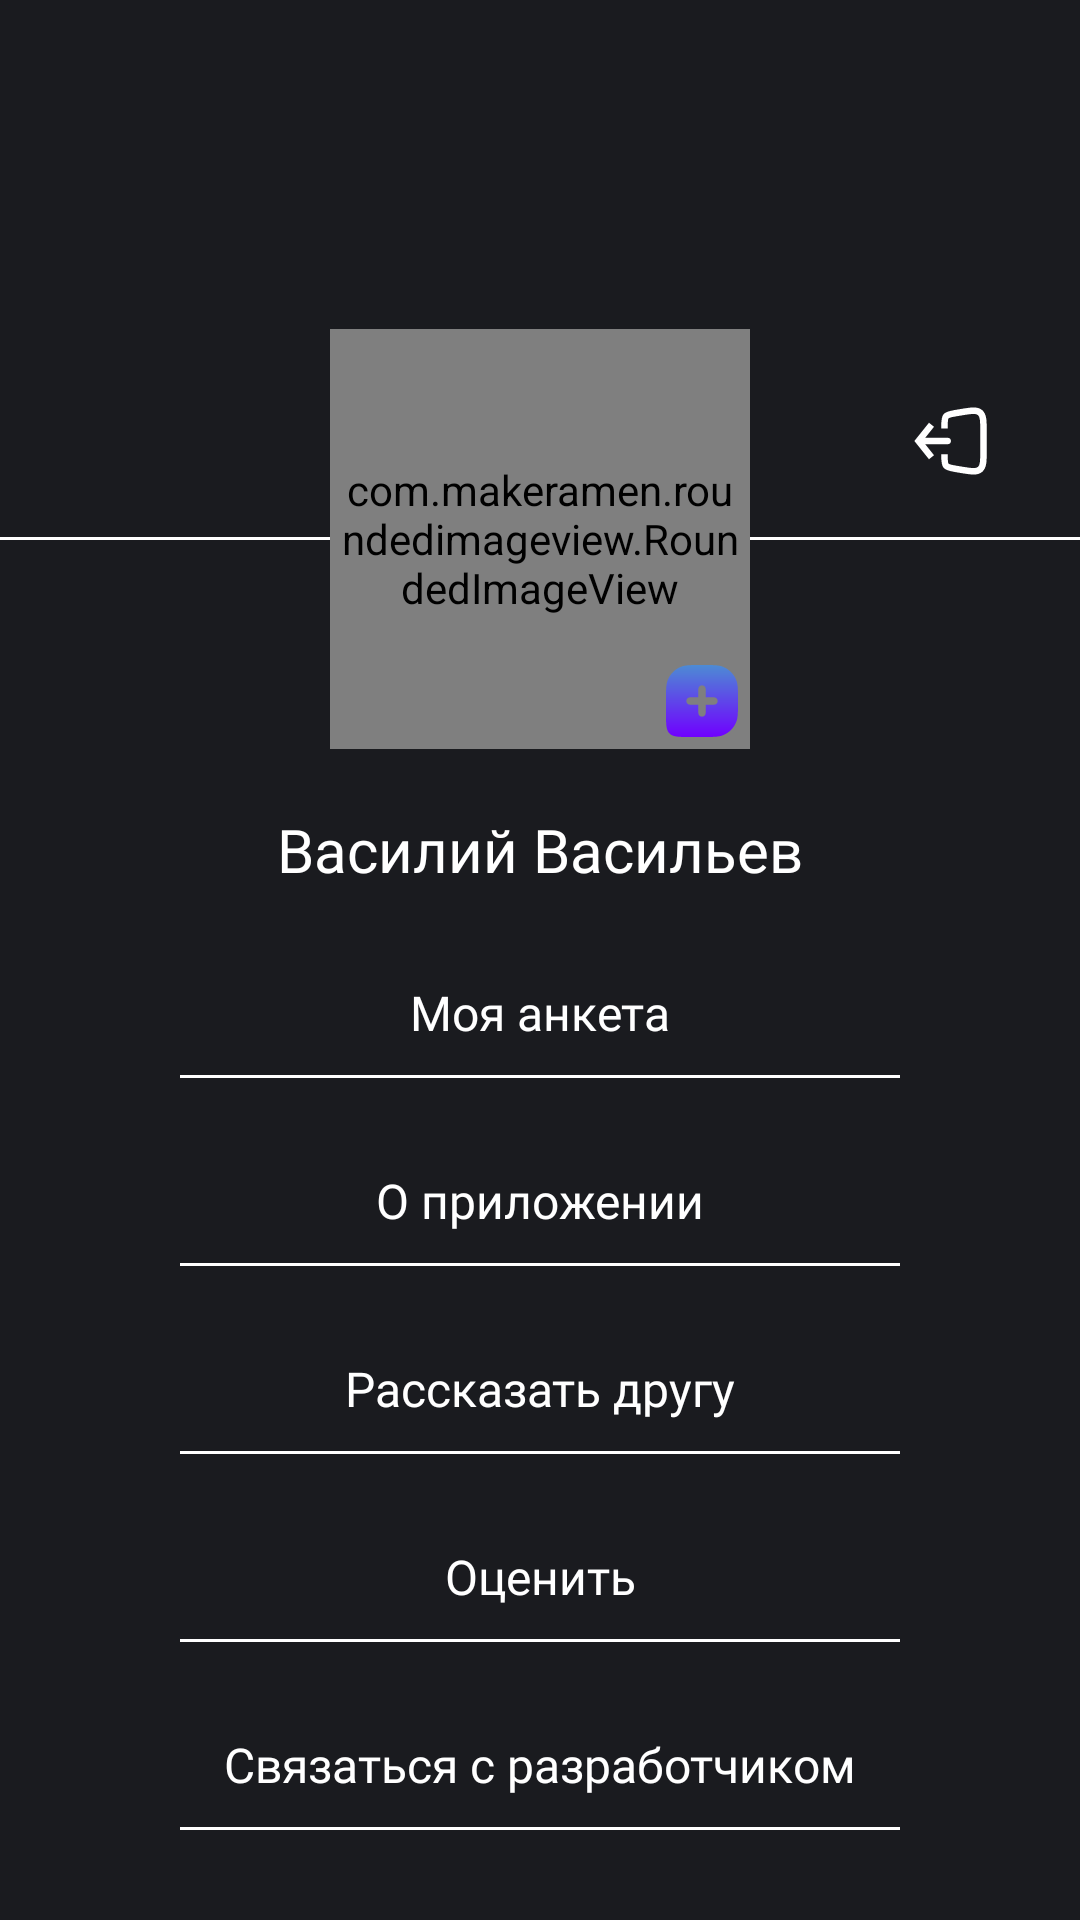

Named icons in this screenshot (1080w x 1920h) and their centers, (x=x, y=y):
exit: (x=950, y=441)
